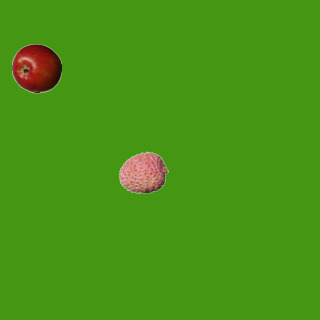Apple Braeburn: (11, 43, 61, 93)
Lychee: (118, 147, 168, 197)
